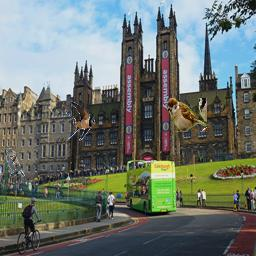Sparrow: (167, 98, 207, 132), (6, 148, 25, 177)
Swallow: (65, 101, 95, 141)
